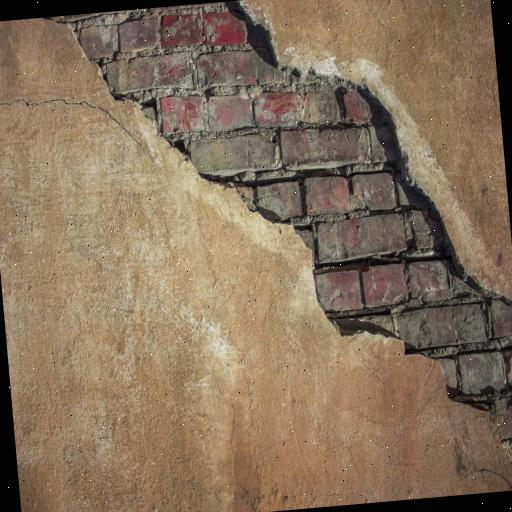spalling: (70, 3, 512, 452)
